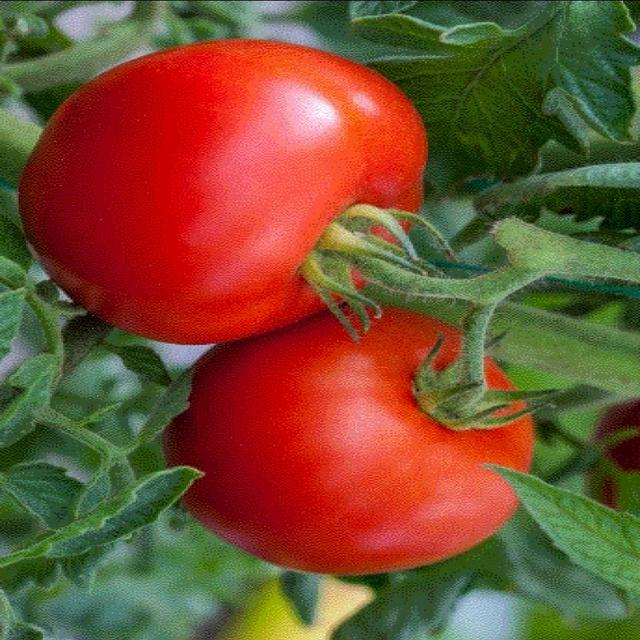Healthy Fruit: (156, 132, 258, 303)
